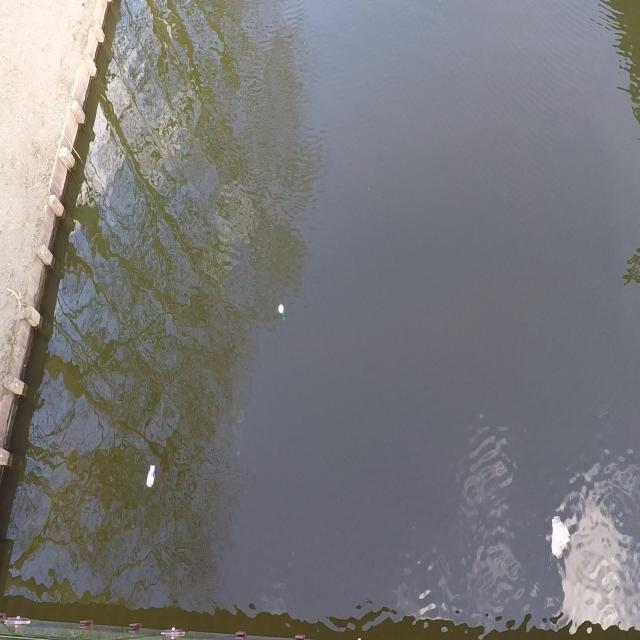Non plastique: (140, 459, 161, 499), (275, 298, 288, 326)
Sac plastique: (545, 509, 573, 569)
